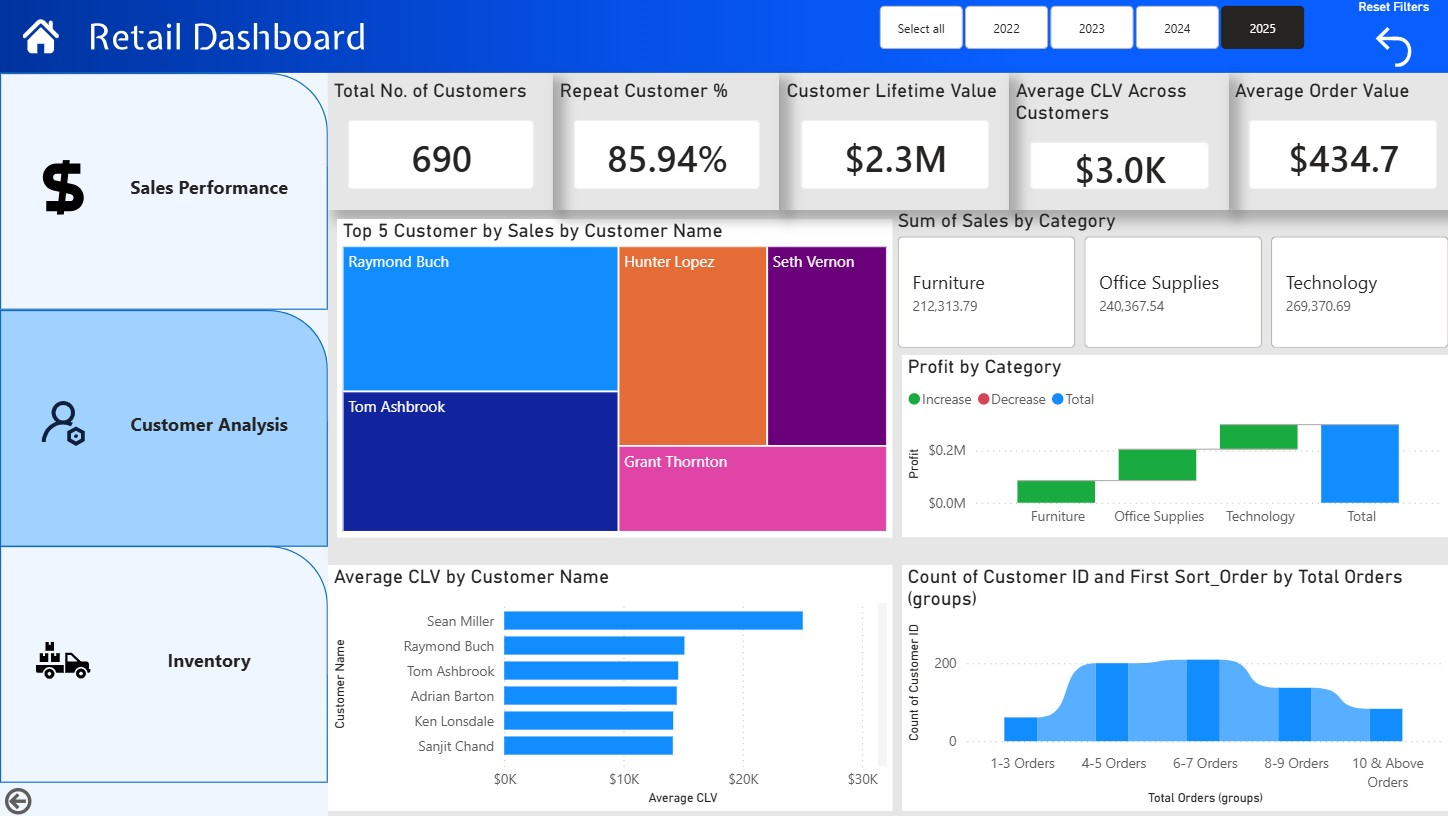

The page's visual inventory and layout, read from the dashboard file:
{"tool":"powerbi","page":{"name":"Customer Analysis","canvas":[1280,720],"ordinal":1},"visuals":[{"type":"image","box":[0,0,1280,64],"z":0},{"type":"shape","box":[0,64,288,208],"z":0,"group":"g1"},{"type":"shape","box":[0,272,288,208],"z":0,"group":"g2"},{"type":"shape","box":[0,480,288,208],"z":0,"group":"g3"},{"type":"cardVisual","title":"Total No. of Customers","fields":{"Data":["Count(Orders.Customer ID)"]},"box":[288,64,198,120],"z":1000},{"type":"image","box":[32,132.6,48,64],"z":1000,"group":"g1"},{"type":"image","box":[32,340.6,48,64],"z":1000,"group":"g2"},{"type":"image","box":[32,548.6,48,64],"z":1000,"group":"g3"},{"type":"advancedSlicerVisual","fields":{"Values":["Date Table.Date.Variation.Date Hierarchy.Year"]},"box":[768,0,384,48],"z":2000},{"type":"textbox","box":[96,148.6,176,32],"z":2000,"group":"g1"},{"type":"textbox","box":[96,356.6,176,32],"z":2000,"group":"g2"},{"type":"textbox","box":[96,564.6,176,32],"z":2000,"group":"g3"},{"type":"image","box":[80,16,240,32],"z":3000},{"type":"image","box":[0,64,288,656],"z":4000},{"type":"image","box":[16,16,40,32],"z":5000},{"type":"group","id":"g1","title":"Group 2","box":[0,64,288,208],"z":6000},{"type":"cardVisual","title":"Average CLV Across Customers","fields":{"Data":["Orders.Average CLV"]},"box":[887,64,192,120],"z":7000},{"type":"group","id":"g2","title":"Group 2","box":[0,272,288,208],"z":8000},{"type":"group","id":"g3","title":"Group 2","box":[0,480,288,208],"z":9000},{"type":"waterfallChart","fields":{"Category":["Orders.Category","Orders.Sub-Category"],"Y":["Orders.Adjusted Profit"]},"box":[792,312,480,160],"z":11000},{"type":"treemap","fields":{"Group":["Orders.Customer Name"],"Values":["Orders.Top 5 Customer by Sales"]},"box":[296,192,488,280],"z":12000},{"type":"actionButton","box":[0,688,96,32],"z":13000},{"type":"cardVisual","title":"Customer Lifetime Value","fields":{"Data":["Orders.Customer Lifetime Revenue"]},"box":[686,64,200,120],"z":15000},{"type":"actionButton","title":"Reset Filters","box":[1168,0,112,64],"z":17000},{"type":"cardVisual","title":"Repeat Customer %","fields":{"Data":["Orders.Repeat Customer %"]},"box":[487,64,198,120],"z":18000},{"type":"cardVisual","title":"Average Order Value","fields":{"Data":["Orders.Average Order Value"]},"box":[1080,64,200,120],"z":19000},{"type":"clusteredBarChart","fields":{"Category":["Orders.Customer Name"],"Y":["Orders.Average CLV"]},"box":[288,496,496,216],"z":20000},{"type":"advancedSlicerVisual","fields":{"Values":["Orders.Category"],"Label":["Sum(Orders.Sales)"]},"box":[784,184,496,128],"z":21000},{"type":"ribbonChart","fields":{"Category":["Customer Summary.Total Orders (groups)"],"Y":["Count(Cust_Temp.Customer ID)"]},"box":[792,496,480,216],"z":23000}]}

Visuals, with their boxes in screenshot pixels (x1, y1, x2, y2), scaled from the page's 1280x720 canvas onto the 1448x816 screenshot:
image: pyautogui.locateOnScreen(0, 0, 1447, 73)
shape: pyautogui.locateOnScreen(0, 73, 326, 308)
shape: pyautogui.locateOnScreen(0, 308, 326, 544)
shape: pyautogui.locateOnScreen(0, 544, 326, 780)
"Total No. of Customers" cardVisual: pyautogui.locateOnScreen(326, 73, 550, 209)
image: pyautogui.locateOnScreen(36, 150, 90, 223)
image: pyautogui.locateOnScreen(36, 386, 90, 459)
image: pyautogui.locateOnScreen(36, 622, 90, 694)
advancedSlicerVisual - Date Table.Date.Variation.Date Hierarchy.Year: pyautogui.locateOnScreen(869, 0, 1303, 54)
textbox: pyautogui.locateOnScreen(109, 168, 308, 205)
textbox: pyautogui.locateOnScreen(109, 404, 308, 440)
textbox: pyautogui.locateOnScreen(109, 640, 308, 676)
image: pyautogui.locateOnScreen(90, 18, 362, 54)
image: pyautogui.locateOnScreen(0, 73, 326, 815)
image: pyautogui.locateOnScreen(18, 18, 63, 54)
"Group 2" group: pyautogui.locateOnScreen(0, 73, 326, 308)
"Average CLV Across Customers" cardVisual: pyautogui.locateOnScreen(1003, 73, 1221, 209)
"Group 2" group: pyautogui.locateOnScreen(0, 308, 326, 544)
"Group 2" group: pyautogui.locateOnScreen(0, 544, 326, 780)
waterfallChart - Orders.Category x Orders.Sub-Category: pyautogui.locateOnScreen(896, 354, 1439, 535)
treemap - Orders.Customer Name x Orders.Top 5 Customer by Sales: pyautogui.locateOnScreen(335, 218, 887, 535)
actionButton: pyautogui.locateOnScreen(0, 780, 109, 815)
"Customer Lifetime Value" cardVisual: pyautogui.locateOnScreen(776, 73, 1002, 209)
"Reset Filters" actionButton: pyautogui.locateOnScreen(1321, 0, 1447, 73)
"Repeat Customer %" cardVisual: pyautogui.locateOnScreen(551, 73, 775, 209)
"Average Order Value" cardVisual: pyautogui.locateOnScreen(1222, 73, 1447, 209)
clusteredBarChart - Orders.Customer Name x Orders.Average CLV: pyautogui.locateOnScreen(326, 562, 887, 807)
advancedSlicerVisual - Orders.Category x Sum(Orders.Sales): pyautogui.locateOnScreen(887, 209, 1447, 354)
ribbonChart - Customer Summary.Total Orders (groups) x Count(Cust_Temp.Customer ID): pyautogui.locateOnScreen(896, 562, 1439, 807)
